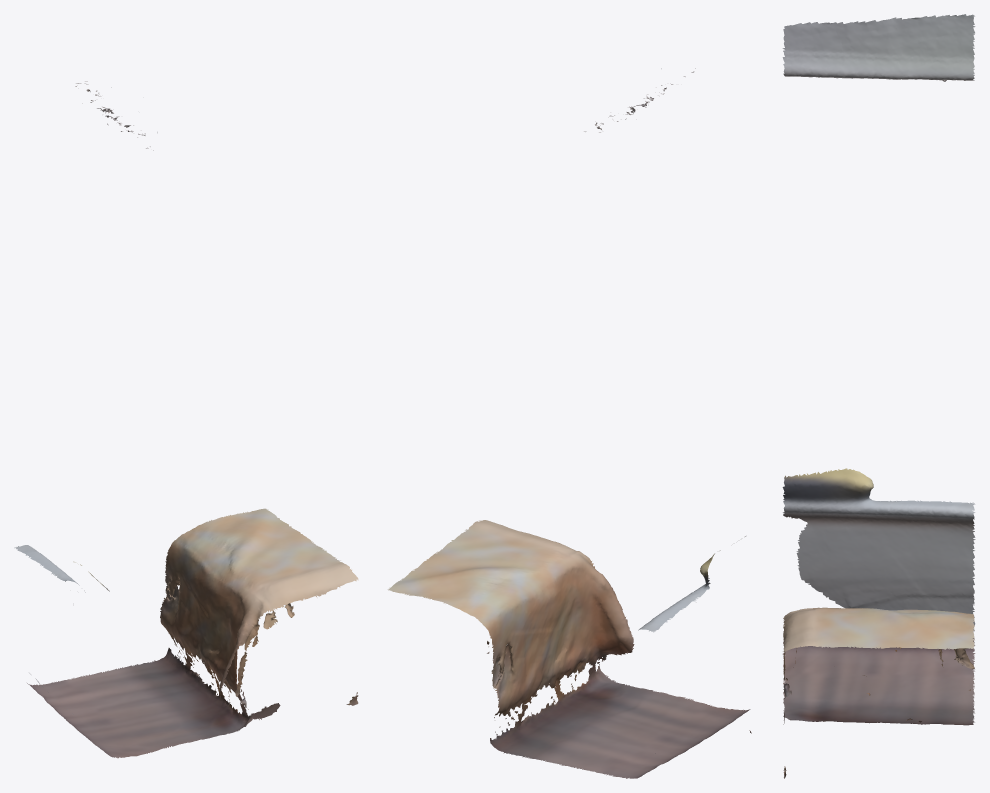
File: apartment-full-15-167f6e214c66.glb
3 renders of one model, left to right at view 1: azimuth 30°, elevation 25°; view 2: azimuth 150°, elevation 25°; view 3: azimuth 270°, elevation 25°, orthographic. The views are drawn at different scales.
Size of the model in its own units: 1.06 by 2.73 by 0.693.
